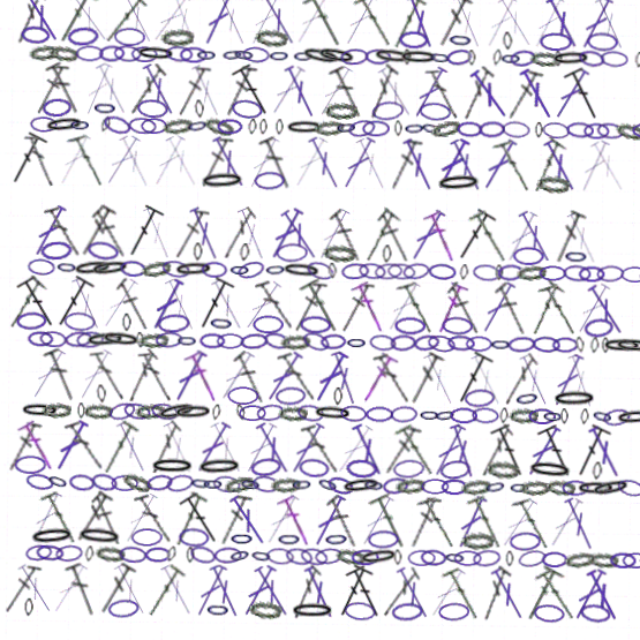chain: (46, 511, 87, 531), (395, 201, 436, 220), (477, 449, 518, 468), (87, 511, 128, 530), (155, 401, 192, 422), (532, 463, 569, 484), (276, 92, 313, 112), (190, 202, 231, 220), (191, 450, 231, 468), (290, 92, 326, 111), (332, 526, 368, 545), (498, 388, 538, 405), (55, 155, 91, 173), (81, 279, 117, 297), (96, 279, 132, 297), (316, 465, 352, 483), (150, 451, 190, 467), (273, 575, 313, 591), (339, 93, 375, 110), (106, 341, 142, 358), (389, 153, 418, 174), (125, 463, 154, 484), (93, 263, 122, 283), (237, 449, 266, 469), (401, 449, 430, 469), (262, 280, 298, 296), (553, 404, 589, 420), (105, 153, 132, 174), (280, 339, 307, 360), (193, 154, 221, 174), (140, 278, 168, 298), (169, 280, 204, 296), (93, 342, 128, 358), (552, 342, 587, 358), (170, 404, 205, 420), (214, 464, 242, 484), (339, 139, 368, 158), (524, 573, 553, 592), (155, 78, 185, 96), (223, 278, 250, 298), (283, 278, 310, 298), (217, 139, 245, 158), (134, 94, 169, 109), (494, 94, 529, 109), (291, 404, 326, 419), (380, 140, 409, 158), (155, 326, 184, 344), (113, 402, 139, 422), (303, 464, 329, 484), (525, 325, 552, 344), (237, 574, 267, 591), (74, 78, 102, 96), (135, 140, 163, 158), (157, 155, 185, 173), (550, 155, 578, 173), (53, 264, 81, 282), (258, 388, 286, 406), (422, 388, 450, 406), (279, 450, 307, 468), (320, 450, 348, 468), (361, 450, 389, 468), (510, 527, 538, 545), (115, 574, 143, 592), (320, 574, 348, 592), (361, 574, 389, 592), (484, 574, 512, 592), (164, 464, 190, 483), (555, 464, 581, 483), (470, 526, 496, 545), (237, 78, 266, 95), (483, 202, 512, 219), (298, 264, 327, 281), (442, 450, 471, 467), (421, 512, 450, 529), (362, 95, 397, 109), (264, 157, 299, 171), (541, 343, 576, 357), (37, 405, 72, 419), (520, 467, 555, 481), (53, 140, 80, 158), (420, 465, 447, 483), (74, 326, 102, 343), (247, 340, 272, 359), (99, 464, 124, 483), (185, 526, 210, 545), (318, 155, 344, 173), (158, 279, 184, 297), (572, 279, 598, 297), (389, 341, 415, 359), (126, 403, 152, 421), (150, 403, 176, 421), (542, 403, 568, 421), (42, 465, 68, 483), (268, 527, 294, 545), (281, 527, 307, 545), (298, 141, 327, 157), (525, 78, 552, 95), (41, 93, 68, 110), (238, 202, 265, 219), (258, 264, 285, 281), (466, 279, 493, 296), (33, 326, 60, 343), (402, 326, 429, 343), (363, 465, 390, 482), (176, 512, 203, 529), (340, 512, 367, 529), (463, 512, 490, 529), (312, 527, 339, 544), (402, 574, 429, 591), (465, 387, 489, 406), (484, 79, 512, 95), (33, 451, 61, 467), (34, 78, 60, 95), (115, 79, 142, 95), (58, 94, 85, 110), (289, 156, 316, 172), (463, 265, 490, 281), (238, 327, 265, 343), (279, 327, 306, 343), (361, 327, 388, 343), (139, 342, 166, 358), (262, 342, 289, 358), (217, 389, 244, 405), (255, 466, 282, 482), (471, 466, 498, 482), (135, 513, 162, 529), (517, 93, 542, 110), (367, 279, 392, 296), (377, 341, 402, 358), (242, 403, 267, 420), (277, 403, 302, 420), (147, 465, 172, 482), (69, 527, 94, 544), (294, 527, 319, 544), (431, 527, 456, 544), (60, 464, 82, 483), (294, 464, 316, 483), (362, 79, 388, 95), (403, 93, 427, 110), (458, 93, 482, 110), (239, 465, 263, 482), (352, 465, 376, 482), (43, 527, 67, 544), (311, 94, 336, 110), (128, 156, 153, 172), (487, 156, 512, 172), (534, 156, 559, 172), (314, 280, 339, 296), (329, 280, 354, 296), (343, 280, 368, 296), (354, 280, 379, 296), (428, 280, 453, 296), (53, 342, 78, 358), (75, 342, 100, 358), (85, 342, 110, 358), (227, 342, 252, 358), (459, 342, 484, 358), (205, 466, 230, 482), (124, 528, 149, 544), (252, 528, 277, 544), (404, 78, 427, 95), (56, 404, 82, 419), (137, 404, 163, 419), (461, 404, 487, 419), (494, 466, 520, 481), (104, 528, 130, 543), (122, 280, 146, 296), (339, 342, 363, 358), (80, 466, 104, 482), (226, 94, 251, 109), (452, 156, 477, 171), (42, 280, 67, 295), (358, 404, 383, 419), (52, 528, 77, 543), (200, 326, 222, 343), (302, 512, 324, 529), (476, 95, 502, 109), (92, 405, 118, 419), (261, 405, 287, 419), (532, 529, 558, 543), (115, 94, 139, 109), (160, 94, 184, 109), (537, 94, 561, 109), (508, 156, 532, 171), (565, 156, 589, 171), (390, 280, 414, 295), (507, 280, 531, 295), (536, 280, 560, 295), (154, 342, 178, 357), (357, 342, 381, 357), (407, 342, 431, 357), (481, 342, 505, 357), (207, 528, 231, 543), (178, 155, 199, 172), (381, 155, 402, 172), (532, 403, 553, 420), (440, 465, 461, 482), (219, 527, 240, 544), (97, 141, 119, 157), (507, 265, 529, 281), (220, 513, 242, 529), (261, 513, 283, 529), (200, 575, 222, 591), (102, 94, 125, 109), (432, 156, 455, 171), (450, 280, 473, 295), (297, 342, 320, 357), (315, 404, 338, 419), (386, 528, 409, 543), (82, 95, 106, 109), (172, 95, 196, 109), (43, 157, 67, 171), (331, 157, 355, 171), (486, 281, 510, 295), (557, 281, 581, 295), (207, 343, 231, 357), (227, 405, 251, 419), (337, 405, 361, 419), (410, 405, 434, 419), (429, 405, 453, 419), (478, 405, 502, 419), (117, 467, 141, 481), (386, 467, 410, 481), (508, 467, 532, 481), (326, 529, 350, 543), (375, 529, 399, 543), (415, 529, 439, 543), (561, 529, 585, 543), (130, 95, 153, 109), (333, 95, 356, 109), (139, 157, 162, 171), (205, 157, 228, 171), (413, 157, 436, 171), (523, 157, 546, 171), (193, 281, 216, 295), (520, 281, 543, 295), (43, 343, 66, 357), (192, 343, 215, 357), (423, 343, 446, 357), (498, 343, 521, 357), (403, 467, 426, 481), (147, 529, 170, 543), (491, 529, 514, 543), (550, 529, 573, 543), (388, 94, 408, 110), (396, 404, 416, 420), (228, 466, 248, 482), (238, 528, 258, 544), (208, 94, 228, 109), (218, 94, 238, 109), (185, 466, 205, 481), (335, 466, 355, 481), (406, 528, 426, 543), (308, 156, 327, 171), (367, 156, 386, 171), (67, 280, 86, 295), (248, 280, 267, 295), (273, 466, 292, 481), (186, 95, 205, 109), (249, 95, 268, 109), (270, 95, 289, 109), (450, 95, 469, 109), (77, 157, 96, 171), (217, 281, 236, 295), (172, 343, 191, 357), (319, 343, 338, 357), (444, 343, 463, 357), (383, 405, 402, 419), (490, 405, 509, 419), (196, 467, 215, 481), (462, 467, 481, 481), (575, 529, 594, 543), (103, 156, 114, 171), (185, 141, 195, 157), (103, 389, 113, 405), (224, 404, 234, 419), (165, 528, 175, 543), (452, 79, 461, 95), (226, 265, 235, 281), (534, 451, 543, 467), (443, 94, 452, 109), (518, 342, 527, 357), (186, 265, 194, 281), (350, 265, 358, 281), (125, 327, 133, 343), (309, 389, 317, 405), (43, 575, 51, 591), (203, 405, 212, 419), (567, 95, 575, 109), (232, 157, 240, 171), (303, 281, 311, 295), (417, 281, 425, 295), (137, 343, 145, 357), (531, 343, 539, 357), (453, 405, 461, 419), (523, 405, 531, 419), (95, 529, 103, 543), (366, 95, 373, 109), (422, 95, 429, 109), (497, 95, 504, 109), (242, 157, 249, 171), (256, 157, 263, 171), (359, 157, 366, 171), (481, 157, 488, 171), (448, 281, 455, 295), (541, 343, 548, 357), (87, 405, 94, 419), (506, 405, 513, 419), (581, 405, 588, 419), (183, 529, 190, 543), (363, 529, 370, 543), (460, 529, 467, 543)
double: (175, 479, 217, 530), (61, 45, 102, 97), (278, 45, 319, 97), (278, 293, 319, 345), (101, 47, 145, 95), (216, 107, 257, 158), (409, 231, 450, 282), (32, 293, 73, 344), (340, 479, 380, 531), (472, 541, 512, 593), (143, 542, 184, 592), (62, 293, 102, 344), (21, 294, 61, 344), (484, 542, 524, 592), (504, 107, 543, 158), (21, 169, 60, 220), (123, 231, 162, 282), (185, 293, 224, 344), (410, 355, 449, 406), (320, 541, 359, 592), (73, 47, 114, 95), (421, 109, 462, 157), (103, 418, 142, 468), (361, 418, 400, 468), (444, 417, 482, 468), (485, 417, 523, 468), (514, 417, 552, 468), (309, 541, 347, 592), (144, 47, 184, 95), (258, 233, 298, 281), (226, 295, 266, 343), (33, 46, 72, 95), (103, 294, 142, 343), (246, 356, 285, 405), (33, 542, 72, 591), (390, 542, 429, 591), (321, 46, 359, 96), (444, 170, 482, 220), (329, 232, 367, 282), (423, 232, 461, 282), (485, 294, 523, 344), (382, 480, 420, 530), (464, 480, 502, 530), (403, 542, 441, 592), (75, 169, 112, 220), (525, 295, 564, 343), (308, 419, 347, 467), (217, 481, 256, 529), (451, 481, 490, 529), (239, 46, 277, 95), (444, 46, 482, 95), (247, 108, 285, 157), (288, 108, 326, 157), (341, 108, 379, 157), (493, 108, 531, 157), (104, 170, 142, 219), (526, 170, 564, 219), (42, 356, 80, 405), (206, 356, 244, 405), (34, 418, 72, 467), (63, 542, 101, 591), (239, 542, 277, 591), (350, 46, 387, 96), (362, 294, 399, 344), (54, 480, 91, 530), (474, 169, 510, 220), (474, 293, 510, 344), (166, 479, 202, 530), (424, 479, 460, 530), (268, 46, 305, 95), (464, 108, 501, 157), (157, 170, 194, 219), (198, 170, 235, 219), (268, 170, 305, 219), (432, 170, 469, 219), (485, 170, 522, 219), (370, 232, 407, 281), (464, 232, 501, 281), (198, 294, 235, 343), (350, 294, 387, 343), (432, 294, 469, 343), (514, 294, 551, 343), (83, 356, 120, 405), (288, 356, 325, 405), (329, 356, 366, 405), (186, 418, 223, 467), (239, 418, 276, 467), (268, 418, 305, 467), (473, 418, 510, 467), (83, 480, 120, 529), (124, 480, 161, 529), (247, 480, 284, 529), (329, 480, 366, 529), (493, 480, 530, 529), (104, 542, 141, 591), (157, 542, 194, 591), (362, 542, 399, 591), (444, 542, 481, 591), (515, 46, 551, 96), (404, 170, 440, 220), (166, 356, 202, 406), (424, 356, 460, 406), (117, 46, 153, 95), (310, 46, 346, 95), (486, 46, 522, 95), (55, 108, 91, 157), (96, 108, 132, 157), (137, 108, 173, 157), (371, 108, 407, 157), (64, 170, 100, 219), (146, 170, 182, 219), (281, 170, 317, 219), (310, 170, 346, 219), (392, 170, 428, 219), (43, 232, 79, 281), (84, 232, 120, 281), (248, 232, 284, 281), (289, 232, 325, 281), (64, 418, 100, 467), (199, 418, 235, 467), (228, 418, 264, 467), (527, 418, 563, 467), (117, 542, 153, 591), (228, 542, 264, 591), (515, 542, 551, 591), (527, 542, 563, 591), (228, 46, 263, 96), (392, 46, 427, 96), (433, 46, 468, 96), (474, 46, 509, 96), (260, 108, 295, 158), (301, 108, 336, 158), (117, 170, 152, 220), (228, 170, 263, 220), (322, 170, 357, 220), (363, 170, 398, 220), (453, 232, 488, 282), (506, 232, 541, 282), (146, 294, 181, 344), (158, 294, 193, 344), (322, 294, 357, 344), (178, 356, 213, 406), (371, 356, 406, 406), (383, 356, 418, 406), (117, 418, 152, 468), (158, 418, 193, 468), (322, 418, 357, 468), (392, 418, 427, 468), (260, 480, 295, 530), (289, 480, 324, 530), (187, 542, 222, 592), (124, 110, 162, 156), (350, 544, 388, 589), (188, 46, 222, 96), (200, 46, 234, 96), (528, 46, 562, 96), (179, 108, 213, 158), (241, 170, 275, 220), (516, 170, 550, 220), (179, 232, 213, 282), (384, 232, 418, 282), (77, 294, 111, 344), (56, 356, 90, 406), (466, 356, 500, 406), (495, 356, 529, 406), (44, 480, 78, 530), (507, 480, 541, 530), (200, 542, 234, 592), (282, 542, 316, 592), (76, 419, 112, 466), (117, 295, 152, 343), (404, 295, 439, 343), (281, 419, 316, 467), (137, 481, 172, 529), (405, 46, 438, 96), (85, 108, 118, 158), (138, 232, 171, 282), (220, 232, 253, 282), (495, 232, 528, 282), (393, 294, 426, 344), (413, 480, 446, 530), (77, 542, 110, 592), (96, 233, 131, 280), (240, 295, 275, 342), (260, 357, 295, 404), (453, 357, 488, 404), (351, 419, 386, 466), (23, 543, 58, 590), (454, 109, 488, 157), (56, 233, 90, 281), (343, 233, 377, 281), (343, 357, 377, 405), (160, 46, 192, 96), (365, 46, 397, 96), (208, 233, 242, 280), (413, 109, 446, 157), (167, 233, 200, 281), (302, 233, 335, 281), (446, 295, 479, 343), (220, 357, 253, 405), (24, 419, 57, 467), (302, 481, 335, 529), (97, 357, 130, 404), (434, 419, 467, 466), (303, 356, 334, 406), (508, 356, 539, 406), (25, 47, 57, 95), (45, 109, 77, 157), (168, 109, 200, 157), (385, 109, 417, 157), (271, 295, 303, 343), (312, 295, 344, 343), (139, 357, 171, 405), (98, 481, 130, 529), (209, 108, 240, 157), (332, 108, 363, 157), (189, 170, 220, 219), (353, 170, 384, 219), (209, 480, 240, 529), (435, 542, 466, 591), (407, 418, 437, 468), (127, 357, 158, 405), (148, 419, 179, 467), (374, 480, 404, 529), (272, 543, 302, 591), (38, 171, 67, 219)
noise: (597, 455, 629, 467), (611, 347, 629, 365), (607, 166, 620, 179)
